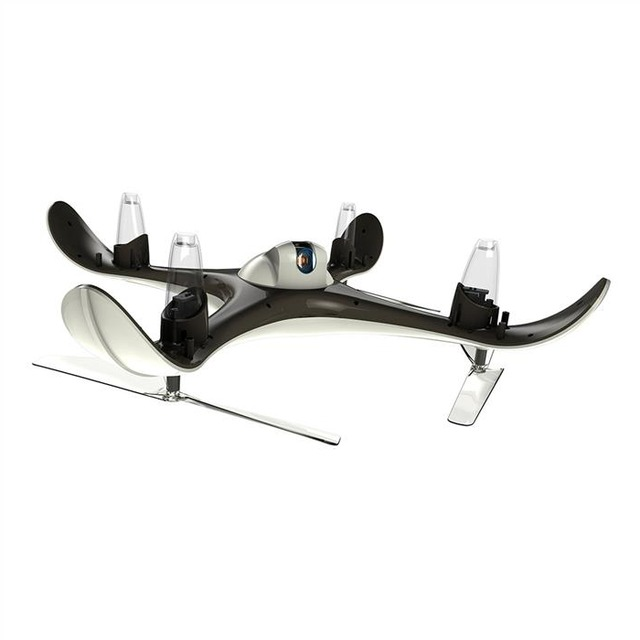drone: (34, 193, 613, 463)
